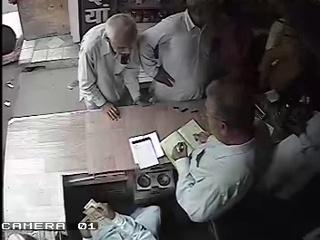Normal: (168, 69, 320, 240), (138, 0, 226, 104), (76, 13, 146, 121), (160, 118, 207, 169)
